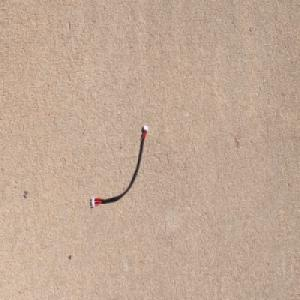Wire: (90, 123, 148, 208)
